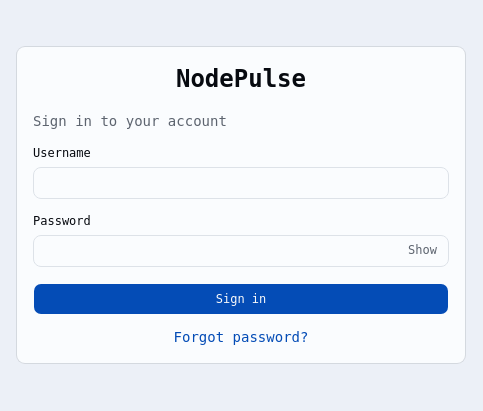
LoginPage › shows an error banner on invalid credentials
The image size is (483, 411).
Type "admin" into the field labelled "Username" at [241, 183], box left=33, top=167, right=449, bottom=199
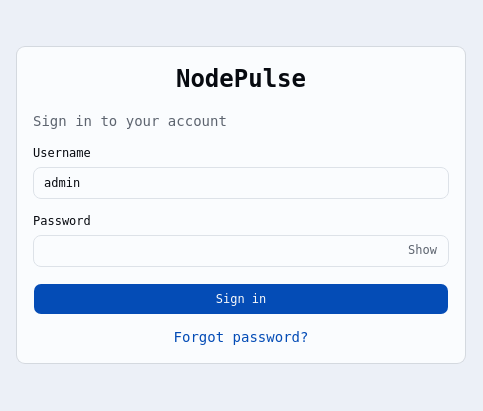
Type "wrong" into the password field labelled "Password" at [241, 251], box left=33, top=235, right=449, bottom=267
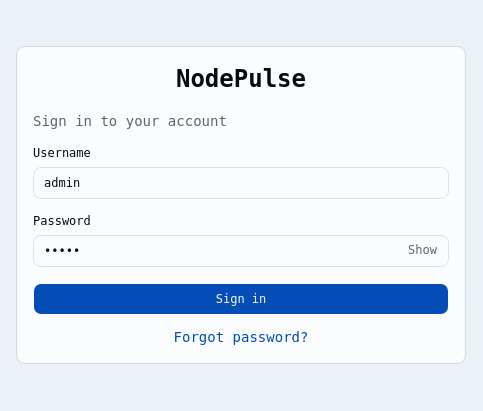
Click the button "Sign in" at [241, 299], box left=33, top=283, right=449, bottom=315
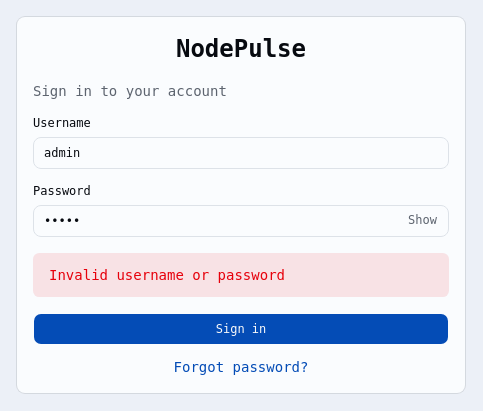
Check: the text "Invalid username or password" is shown, box left=33, top=253, right=449, bottom=297
